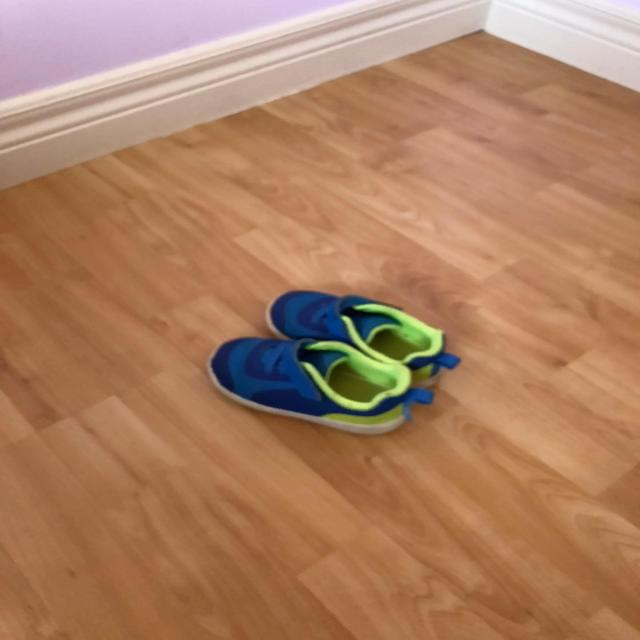shoe: (207, 338, 452, 439), (268, 290, 460, 404)
